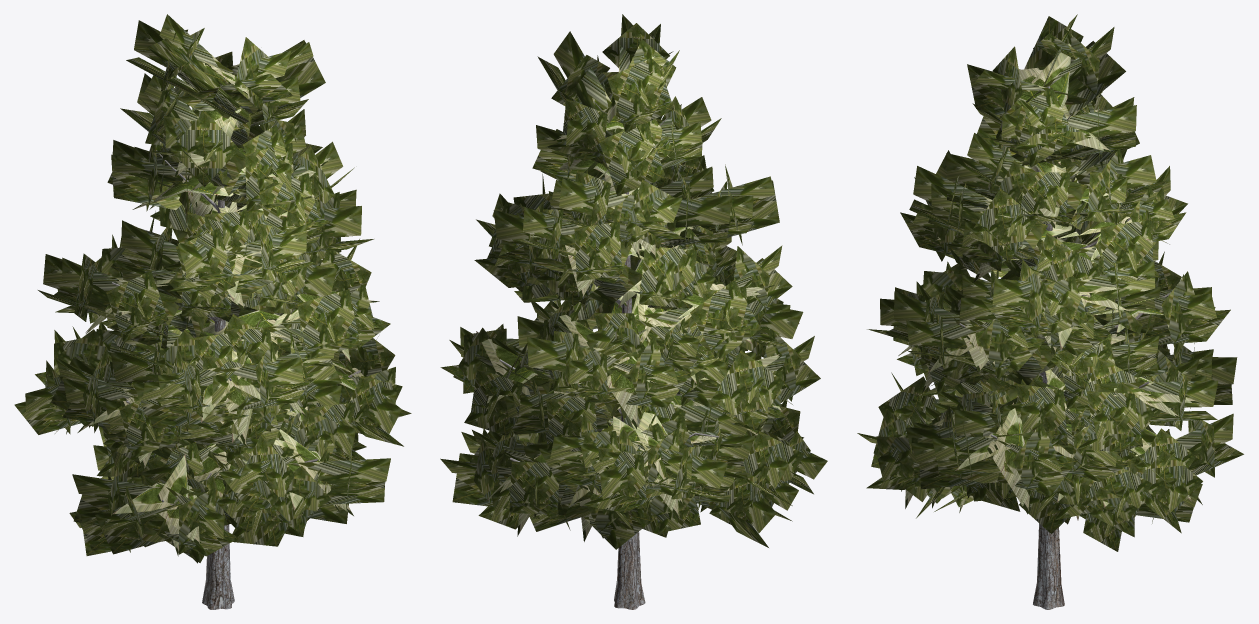
Rendered from tree.gltf.
The picture shows the model from 3 angles, left to right: view 1: azimuth 30°, elevation 25°; view 2: azimuth 150°, elevation 25°; view 3: azimuth 270°, elevation 25°; orthographic projection. The views are drawn at different scales.
Visible parts, largest first — view 1: tree; view 2: tree; view 3: tree.
Boxes of the visible parts, x1,y1,x2,y2 form: tree: (14, 14, 411, 609); tree: (440, 14, 827, 609); tree: (857, 14, 1243, 609).
Size of the model in its own units: 187 by 320 by 197.
Materials: 3 (3 with a texture image).
